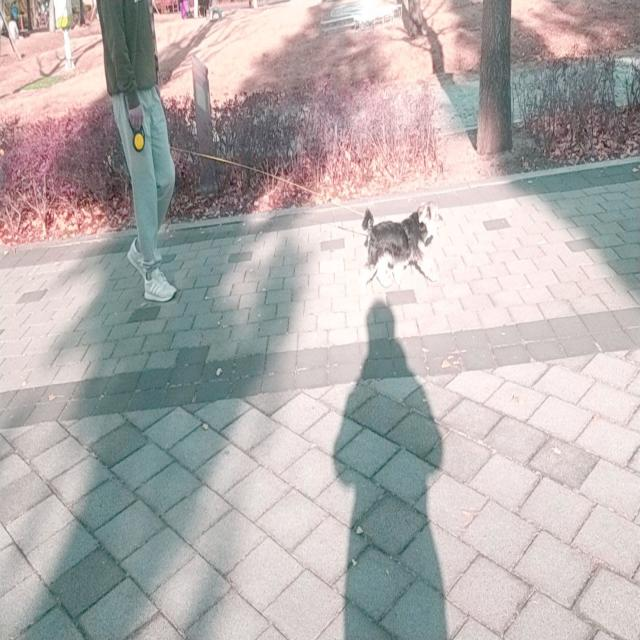Leashed_Dog: (128, 101, 444, 290)
